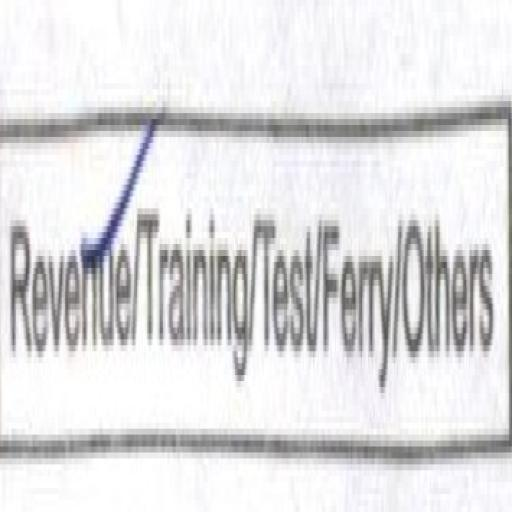check: (3, 66, 136, 439)
